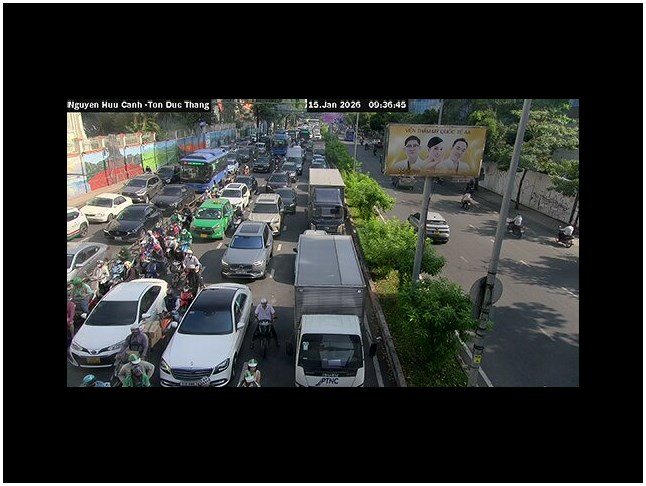bus: (288, 229, 373, 367), (177, 147, 230, 185), (190, 198, 236, 241)
car: (157, 281, 256, 387), (68, 277, 173, 375), (294, 316, 367, 386), (220, 221, 274, 280), (104, 203, 163, 243), (81, 195, 134, 225), (248, 192, 282, 235), (407, 211, 450, 244), (119, 174, 164, 203), (151, 184, 197, 211), (417, 212, 450, 245), (67, 209, 89, 239)
truck: (307, 168, 347, 233)
